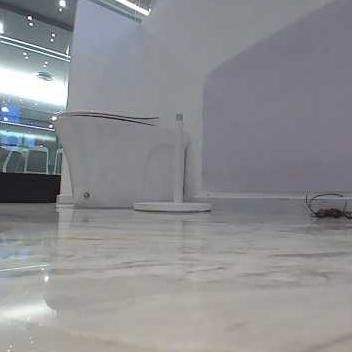chair_base: (126, 189, 215, 214)
toilet: (48, 105, 165, 210)
